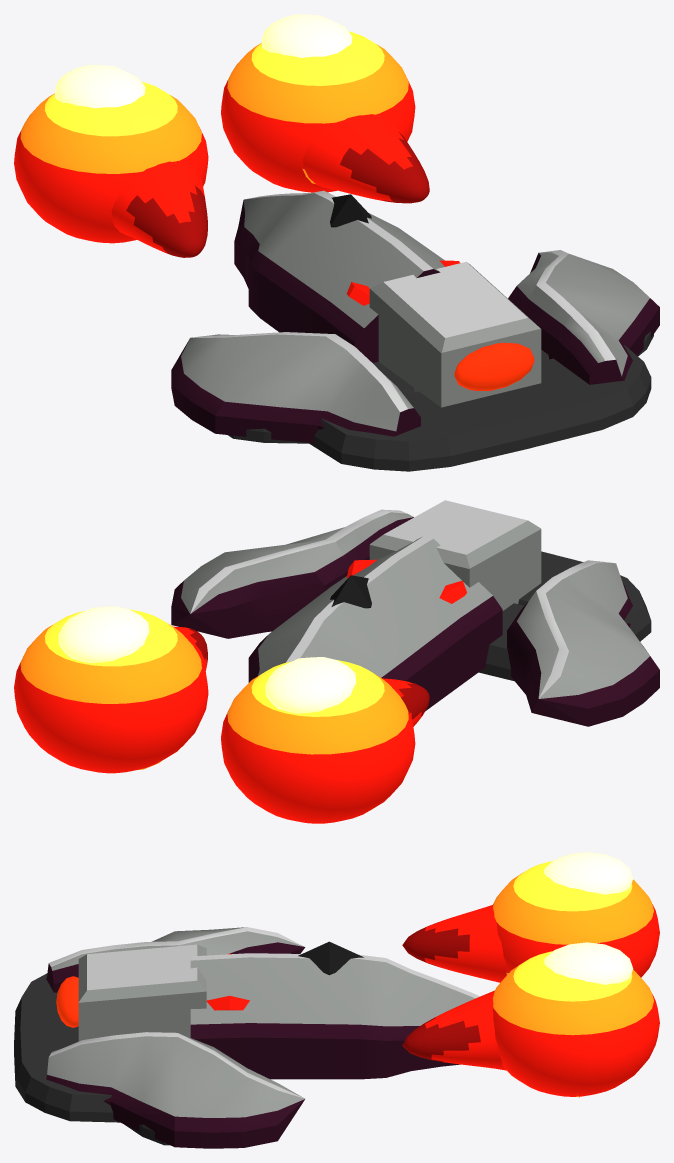
File: pu_pulse_blast.glb
3 views of the same model, one above another, from view 1: azimuth 30°, elevation 25°; view 2: azimuth 150°, elevation 25°; view 3: azimuth 270°, elevation 25° (orthographic). The views are drawn at different scales.
Parts seen in each view (by area): view 1: blade_left, spire, fireball0, base_rear, fireball1, block, blade_right, flame1, flame0, fire_core1, fire_core0, exhaust (+2 smaller); view 2: fireball1, fireball0, spire, blade_left, blade_right, block, fire_core1, fire_core0, base_rear, base_front, flame0, canopy (+1 smaller); view 3: spire, blade_right, fireball1, fireball0, block, base_rear, flame0, flame1, blade_left, fire_core0, fire_core1, canopy (+2 smaller).
Boxes of the visible parts, x1=… form: blade_left: x1=171, y1=332, x2=420, y2=443; spire: x1=234, y1=190, x2=444, y2=362; fireball0: x1=14, y1=82, x2=208, y2=243; base_rear: x1=309, y1=345, x2=651, y2=471; fireball1: x1=221, y1=31, x2=415, y2=192; block: x1=369, y1=262, x2=541, y2=407; blade_right: x1=508, y1=250, x2=659, y2=384; flame1: x1=302, y1=114, x2=429, y2=203; flame0: x1=111, y1=160, x2=207, y2=257; fire_core1: x1=262, y1=14, x2=352, y2=57; fire_core0: x1=55, y1=64, x2=145, y2=108; exhaust: x1=454, y1=343, x2=534, y2=390; fireball1: x1=14, y1=609, x2=208, y2=773; fireball0: x1=221, y1=660, x2=415, y2=823; spire: x1=248, y1=536, x2=502, y2=711; blade_left: x1=507, y1=560, x2=659, y2=726; blade_right: x1=171, y1=509, x2=413, y2=638; block: x1=369, y1=500, x2=541, y2=610; fire_core1: x1=58, y1=606, x2=149, y2=663; fire_core0: x1=265, y1=657, x2=356, y2=713; base_rear: x1=518, y1=551, x2=651, y2=641; base_front: x1=478, y1=603, x2=524, y2=681; flame0: x1=370, y1=678, x2=429, y2=810; canopy: x1=330, y1=575, x2=371, y2=608; spire: x1=190, y1=953, x2=479, y2=1079; blade_right: x1=46, y1=1032, x2=304, y2=1148; fireball1: x1=492, y1=951, x2=659, y2=1096; fireball0: x1=493, y1=861, x2=659, y2=977; block: x1=78, y1=944, x2=206, y2=1041; base_rear: x1=14, y1=973, x2=119, y2=1122; flame0: x1=402, y1=905, x2=508, y2=982; flame1: x1=402, y1=990, x2=579, y2=1097; blade_left: x1=46, y1=927, x2=305, y2=992; fire_core0: x1=544, y1=852, x2=633, y2=894; fire_core1: x1=544, y1=942, x2=633, y2=984; canopy: x1=298, y1=941, x2=363, y2=975.
Bounding box in the file's own units: 13.1 × 4.61 × 18.17.
